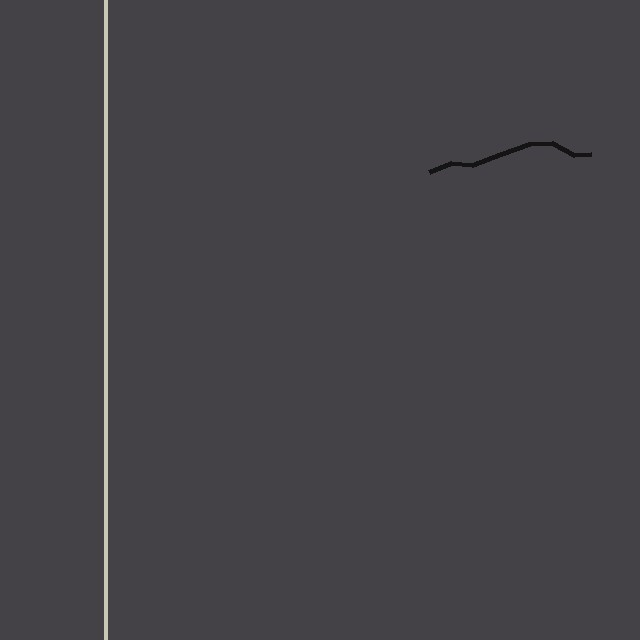crack: (429, 131, 582, 214)
